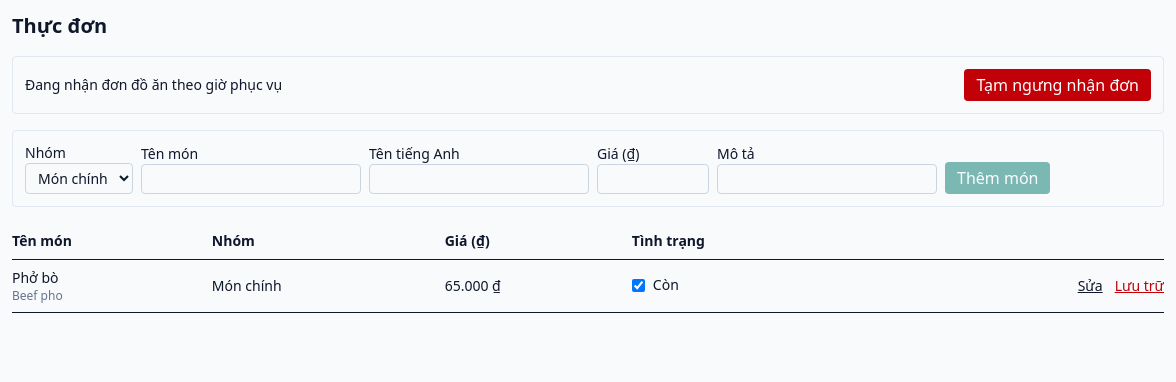
Test: MenuTable › explains when a change cannot be saved
Click the switch named "Còn món Phở bò" at (638, 285), box [632,279,645,292]
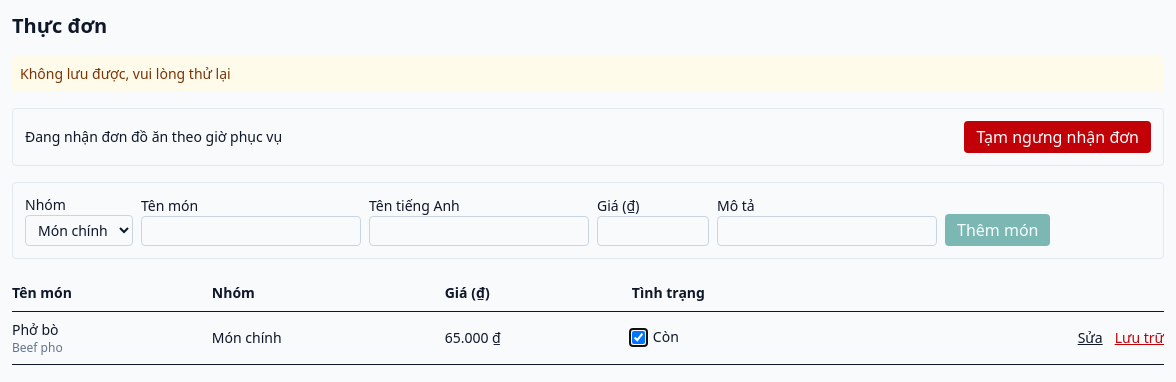
Expected: the message shows "Không lưu được", [20,64,231,83]
